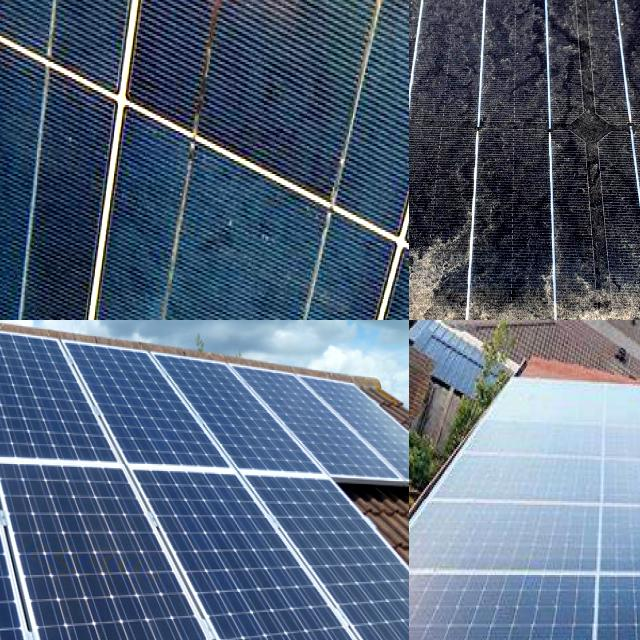crack: (118, 455, 408, 640), (0, 445, 237, 640), (141, 323, 327, 494), (238, 455, 409, 640), (54, 320, 236, 485), (231, 341, 397, 508), (0, 446, 123, 640), (0, 320, 132, 492), (409, 560, 640, 640), (0, 320, 79, 482)
dust: (510, 0, 640, 164), (432, 219, 640, 320), (409, 0, 525, 171), (409, 222, 503, 320)
shadow: (189, 0, 286, 165)
